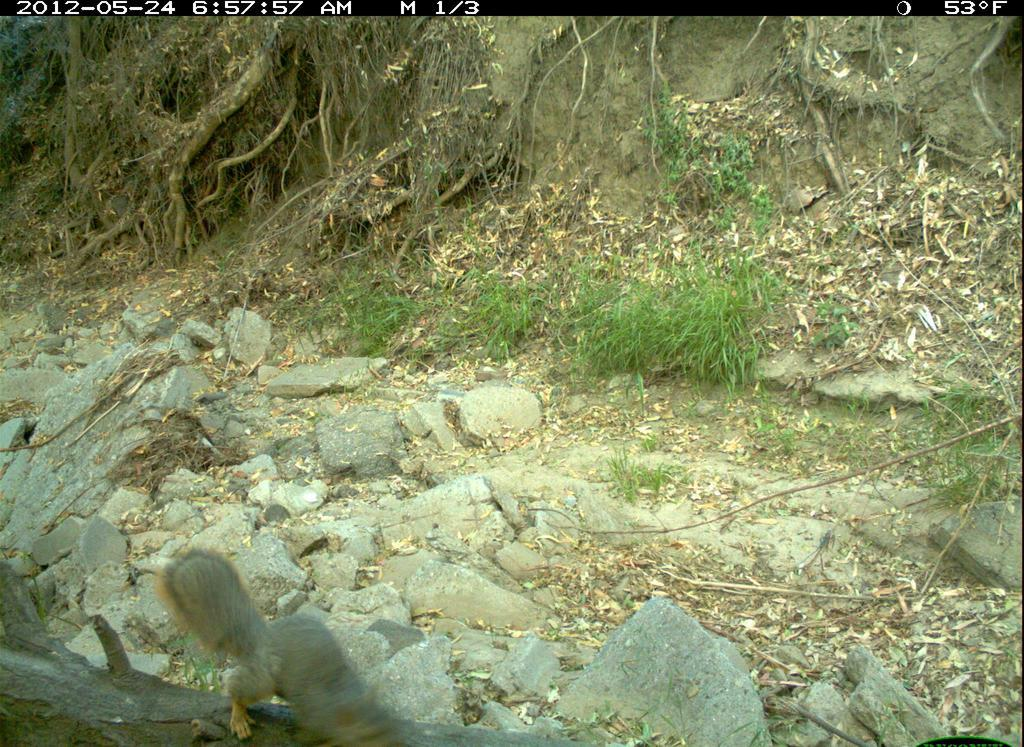squirrel: (155, 546, 422, 747)
